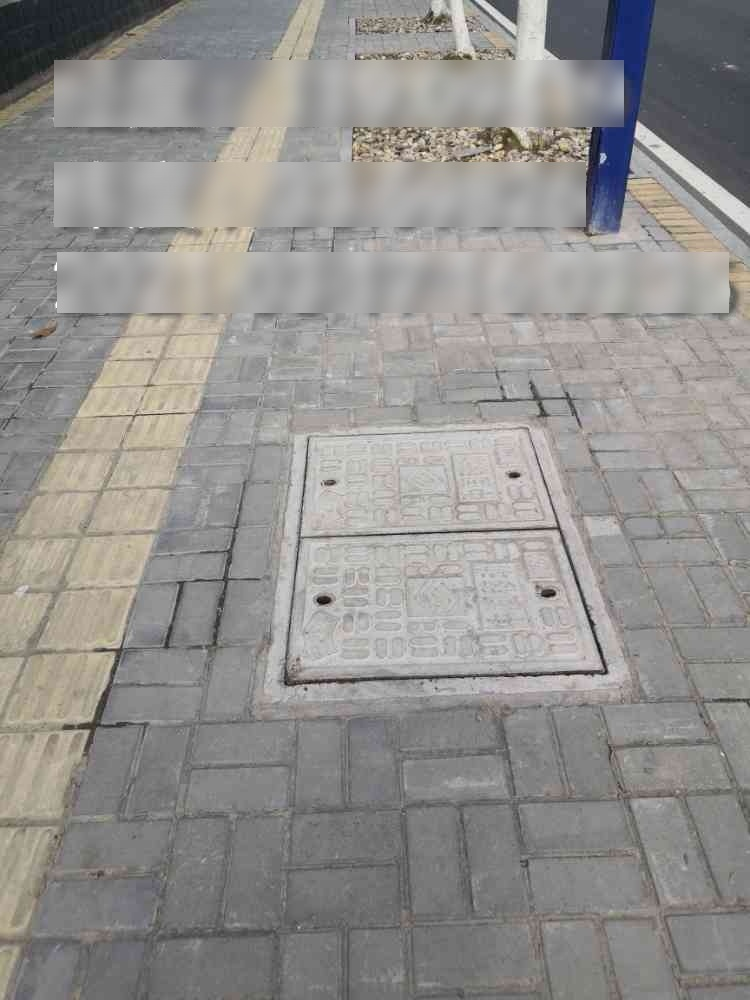good: (263, 419, 636, 697)
